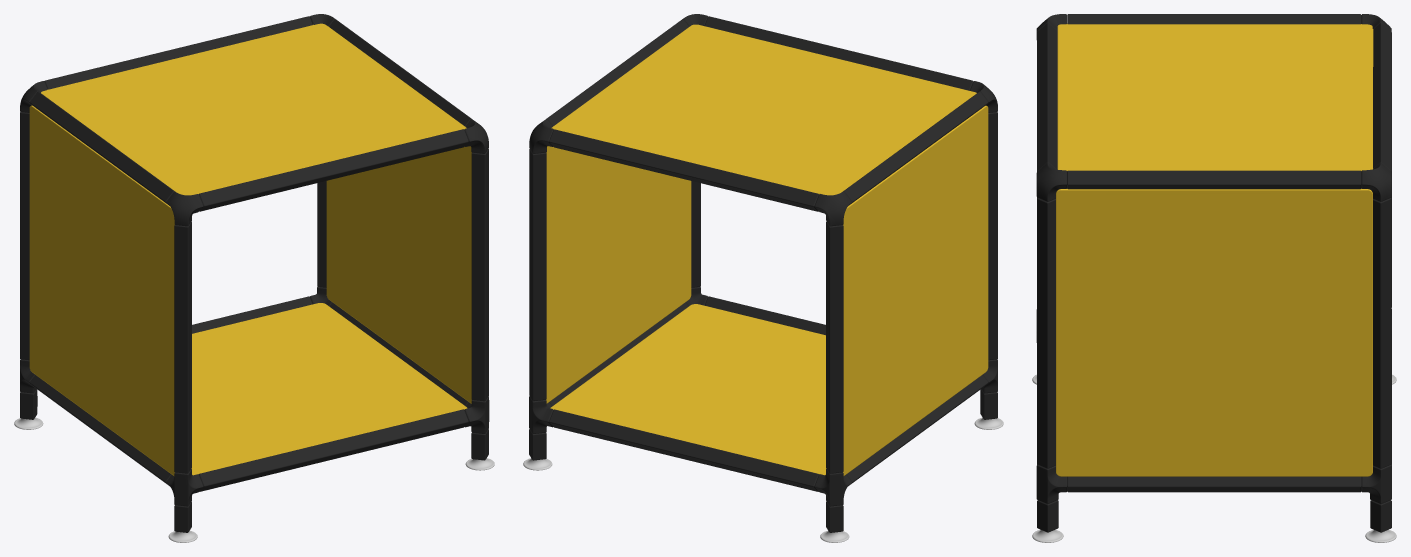
3 views of the same model, side by side, from view 1: azimuth 30°, elevation 25°; view 2: azimuth 150°, elevation 25°; view 3: azimuth 270°, elevation 25° (orthographic). The views are drawn at different scales.
Visible parts, largest first — view 1: 420x374x374; view 2: 420x374x374; view 3: 420x374x374.
Boxes of the visible parts, box(x1,y1,x2,y2) form: 420x374x374: box(14, 14, 494, 542); 420x374x374: box(523, 14, 1003, 542); 420x374x374: box(1032, 14, 1396, 542).
Bounding box in the file's own units: 0.5099 × 0.5133 × 0.4632.
